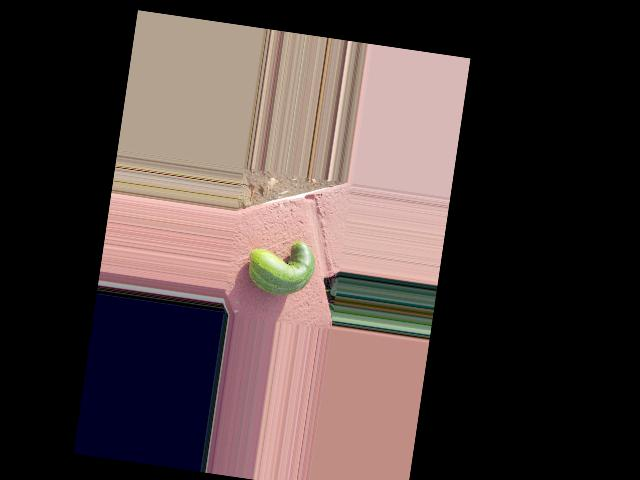cucumber: (244, 233, 318, 298)
